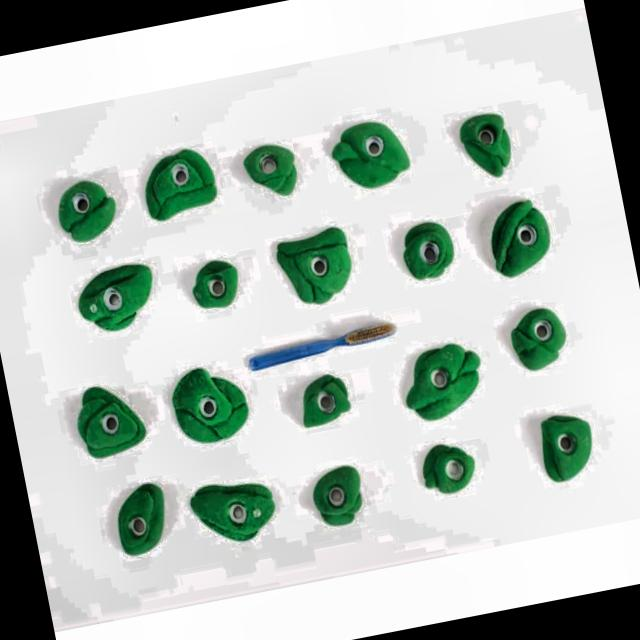Hold: (322, 111, 420, 195), (183, 474, 283, 554), (396, 338, 489, 424), (270, 222, 359, 310), (164, 364, 253, 442), (67, 380, 149, 464), (138, 146, 226, 224), (484, 193, 560, 279), (77, 264, 170, 332), (452, 100, 520, 184), (51, 177, 128, 250), (528, 411, 596, 488), (110, 479, 177, 556), (504, 304, 570, 374), (233, 136, 300, 203), (291, 366, 362, 428), (396, 213, 458, 280), (417, 430, 475, 500), (314, 466, 369, 532), (188, 254, 244, 312)
